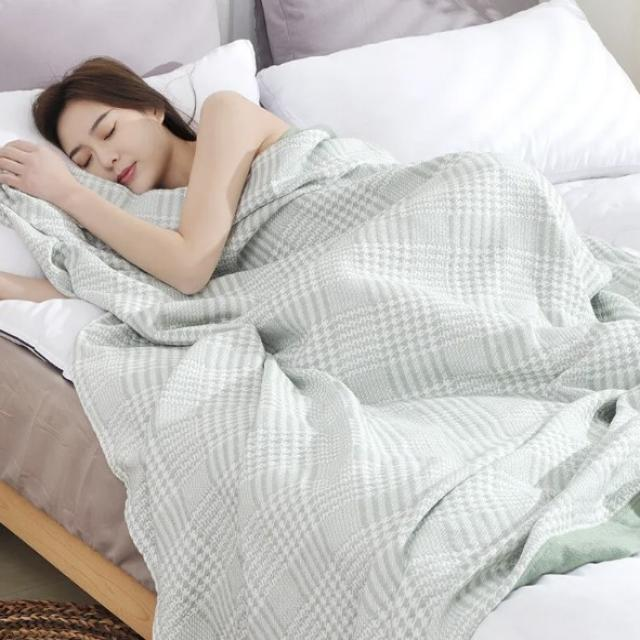sleeping-person: (1, 41, 640, 548)
